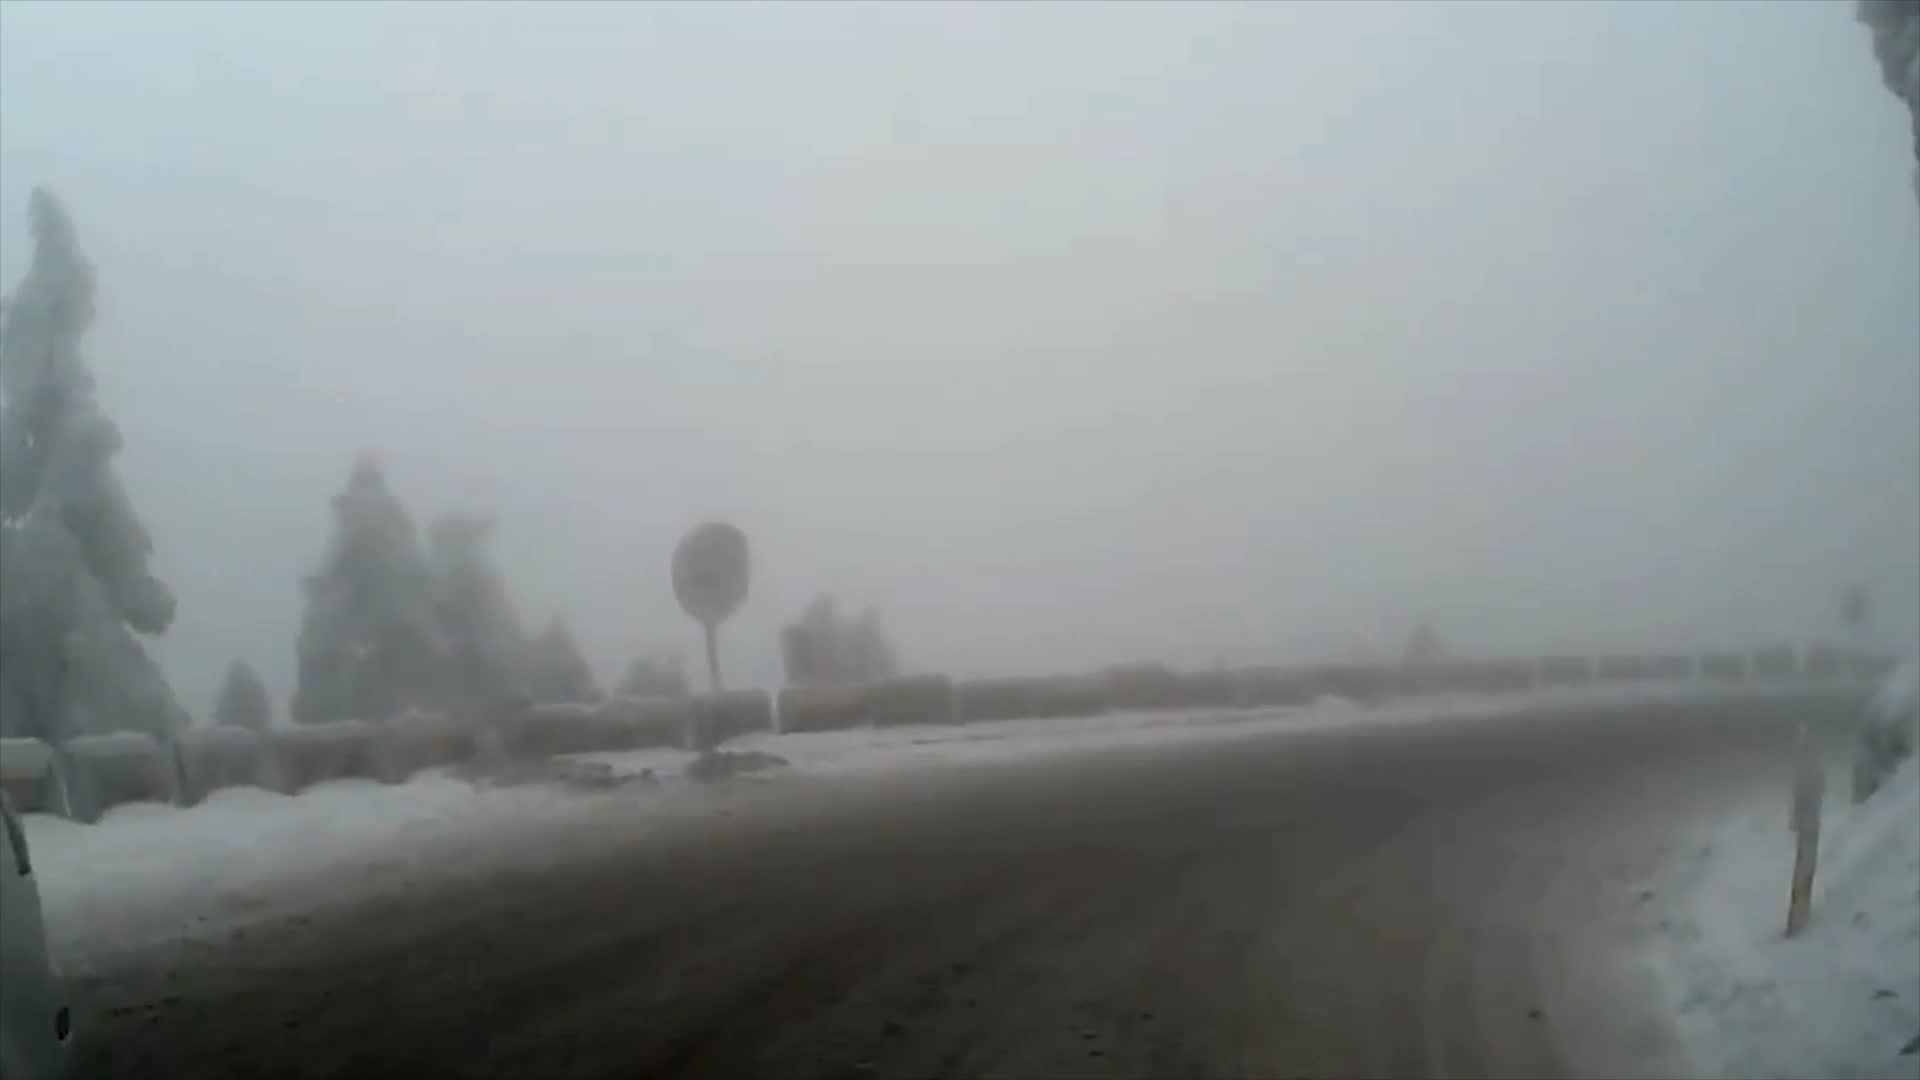vehicle: (0, 787, 78, 1079)
